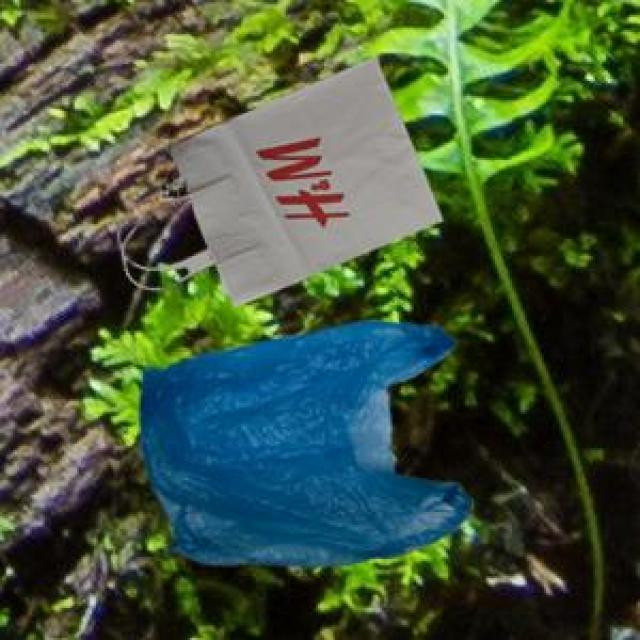paper: (115, 53, 437, 301)
